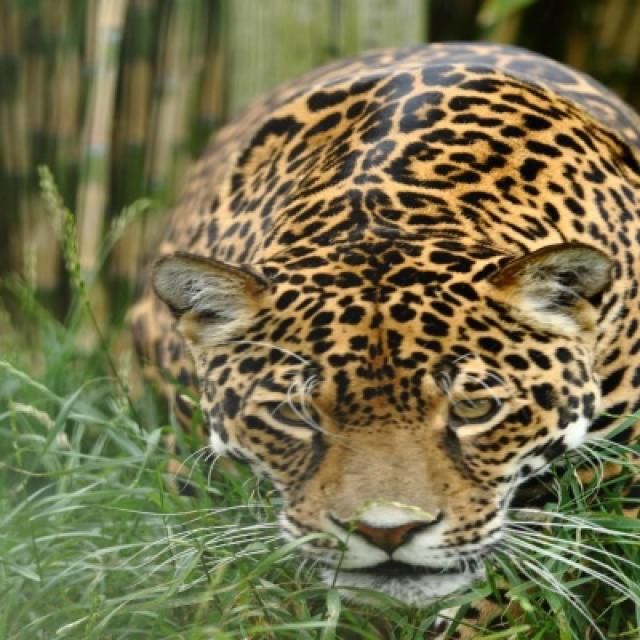Jaguar: (149, 43, 638, 581)
